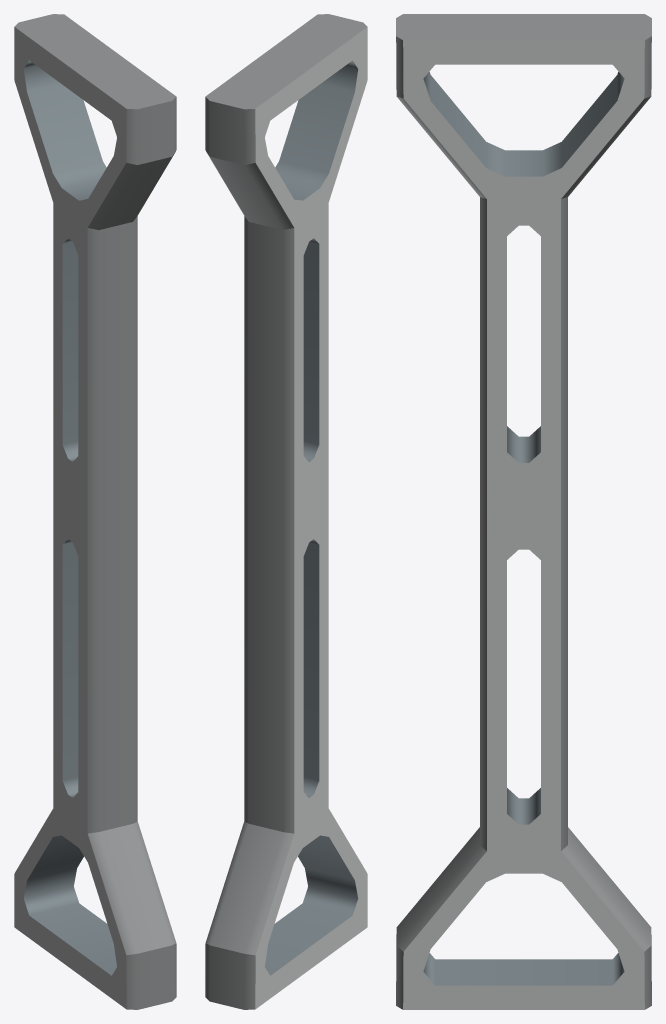
File: Column_003.fbx
The picture shows the model from 3 angles, left to right: view 1: azimuth 30°, elevation 25°; view 2: azimuth 150°, elevation 25°; view 3: azimuth 270°, elevation 25°; orthographic projection. The views are drawn at different scales.
Parts seen in each view (by area): view 1: Column_003; view 2: Column_003; view 3: Column_003.
Part boxes in pixels (x1,y1,x2,y2): Column_003: (14,14,176,1009); Column_003: (205,14,367,1009); Column_003: (396,14,651,1009).
Size of the model in its own units: 22.41 by 92.03 by 385.
